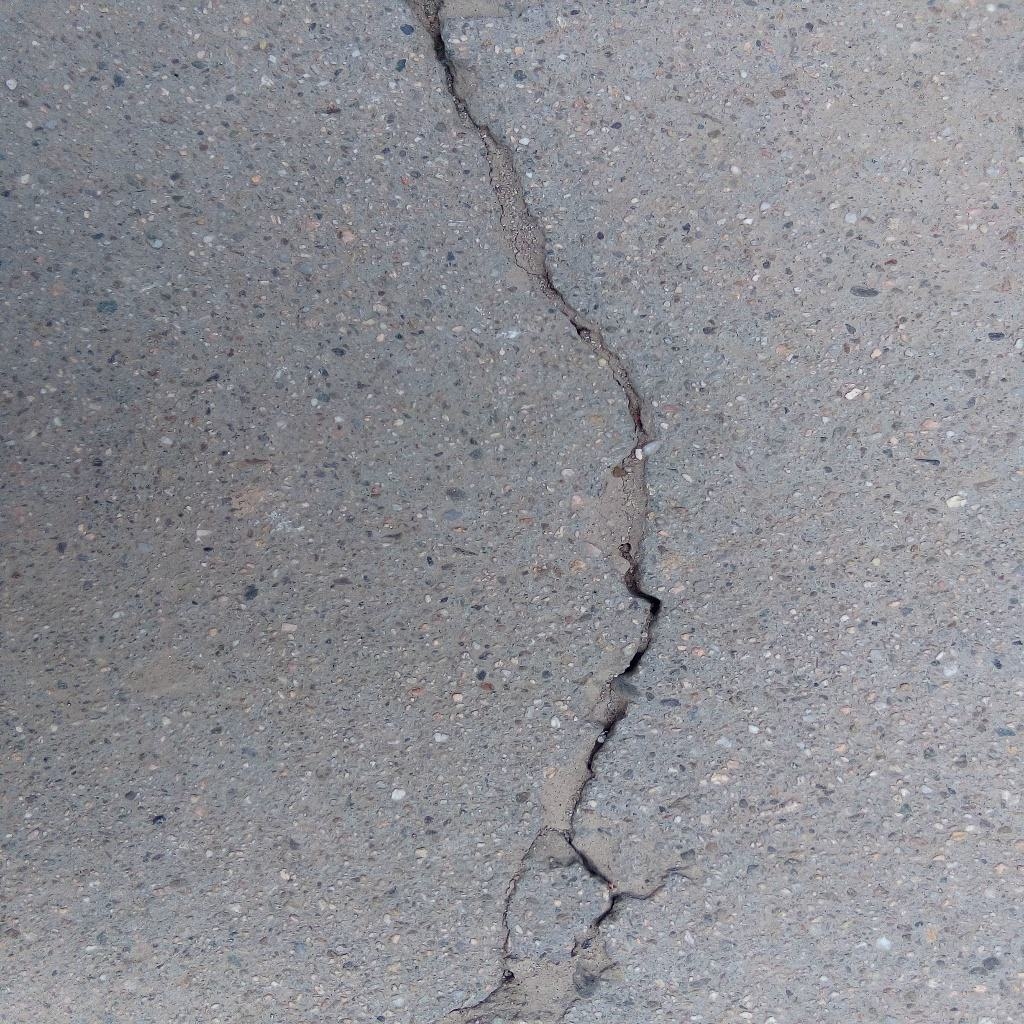Crack: (412, 1, 665, 1024)
